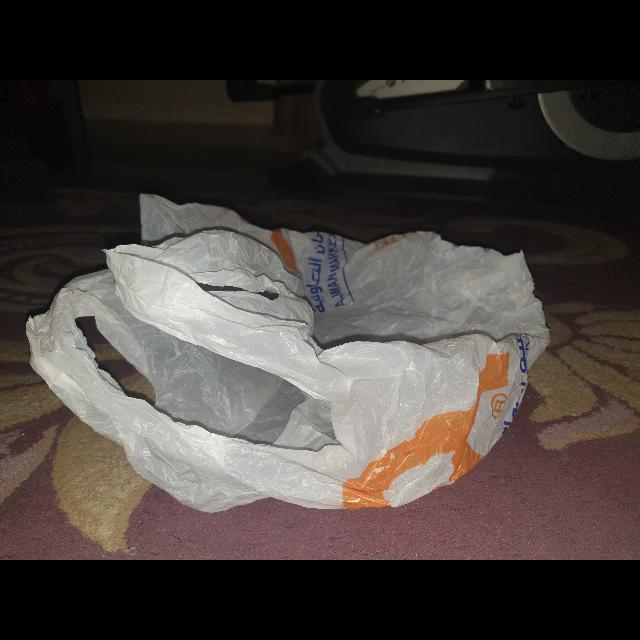plastic_bag: (12, 177, 564, 523)
